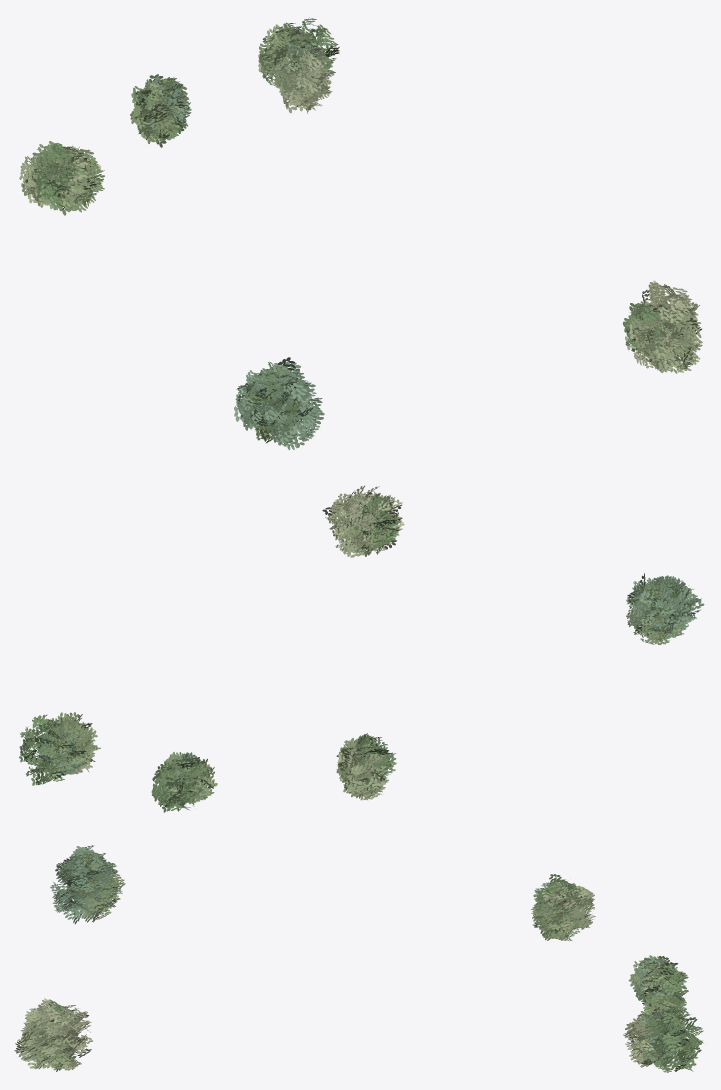
The model's file is campus-tree-0_-3-near.glb.
3 renders of one model, top to bottom at view 1: azimuth 30°, elevation 25°; view 2: azimuth 150°, elevation 25°; view 3: azimuth 270°, elevation 25°, orthographic. The views are drawn at different scales.
Parts seen in each view (by area): view 1: Campus leaf canopy; view 2: Campus leaf canopy; view 3: Campus leaf canopy.
Boxes of the visible parts, <box> form: Campus leaf canopy: <box>19,17,702,450</box>; Campus leaf canopy: <box>19,485,704,812</box>; Campus leaf canopy: <box>14,845,703,1072</box>.
Size of the model in its own units: 32.54 by 6.12 by 51.21.
Materials: 1 (1 with a texture image).
